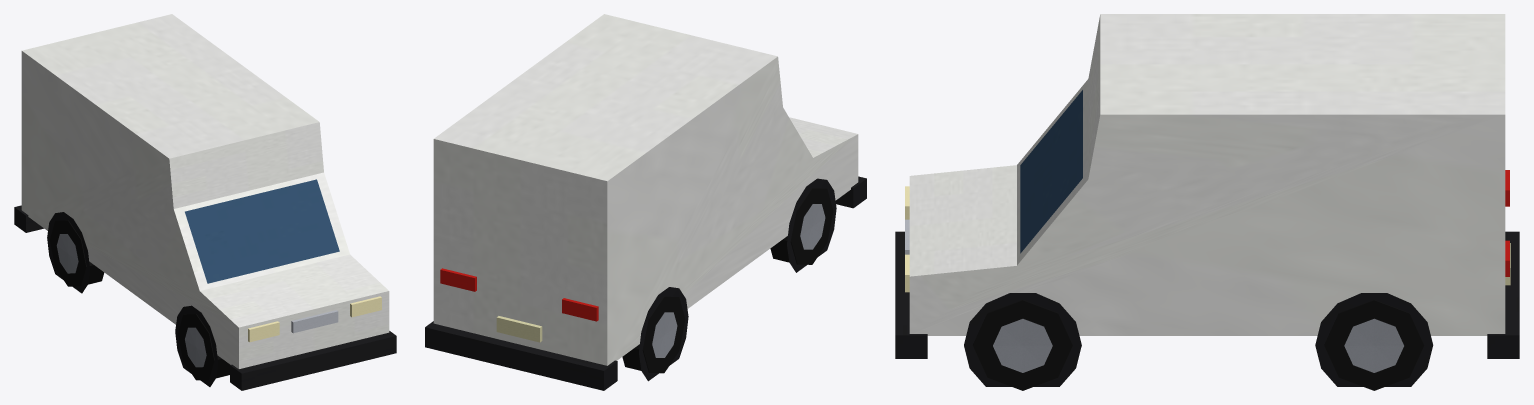
Rendered from van-white-far.glb.
3 views of the same model, side by side, from view 1: azimuth 30°, elevation 25°; view 2: azimuth 150°, elevation 25°; view 3: azimuth 270°, elevation 25° (orthographic). The views are drawn at different scales.
Parts seen in each view (by area): view 1: van-white-far; view 2: van-white-far; view 3: van-white-far.
Part boxes in pixels (left/top/right/bottom): van-white-far: left=14, top=14, right=396, bottom=390; van-white-far: left=425, top=14, right=866, bottom=390; van-white-far: left=895, top=14, right=1519, bottom=390.
Bounding box in the file's own units: 2.06 × 2.55 × 5.24.
1 material, 1 textured.
